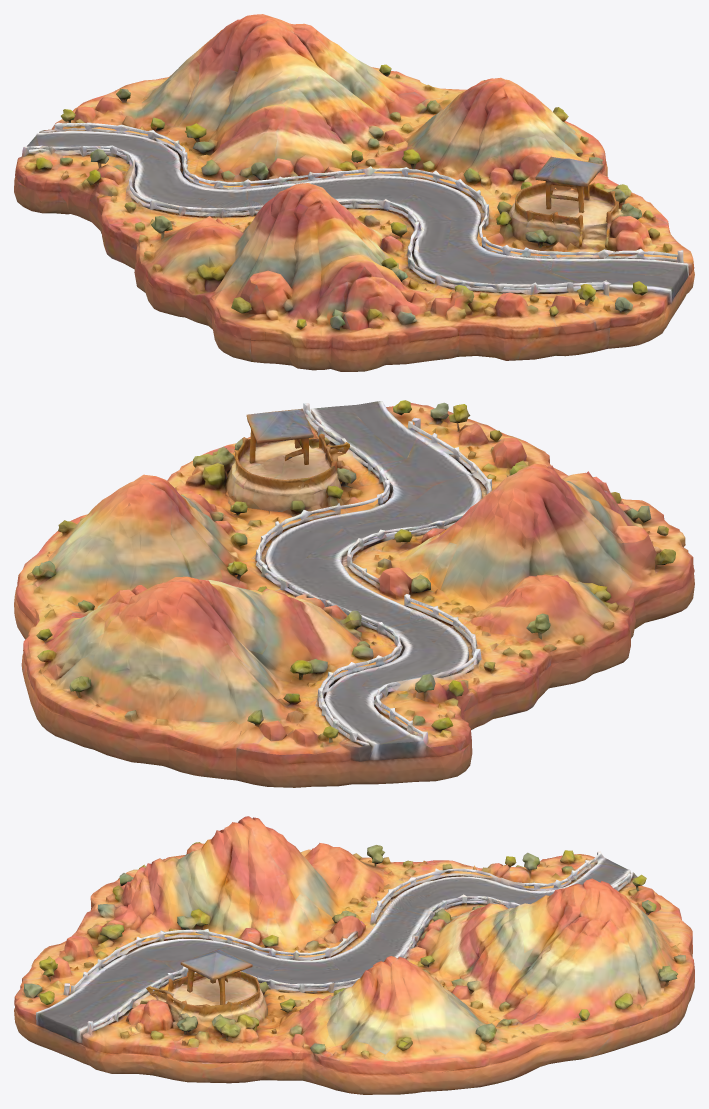
The model's file is danxia.glb.
The picture shows the model from 3 angles, top to bottom: view 1: azimuth 30°, elevation 25°; view 2: azimuth 150°, elevation 25°; view 3: azimuth 270°, elevation 25°; orthographic projection. The views are drawn at different scales.
Parts seen in each view (by area): view 1: model; view 2: model; view 3: model.
Part boxes in pixels (<box>): model: <box>14,14,694,371</box>; model: <box>14,400,694,787</box>; model: <box>14,816,694,1094</box>.
Size of the model in its own units: 27.12 by 6.52 by 36.
1 material, 1 textured.
